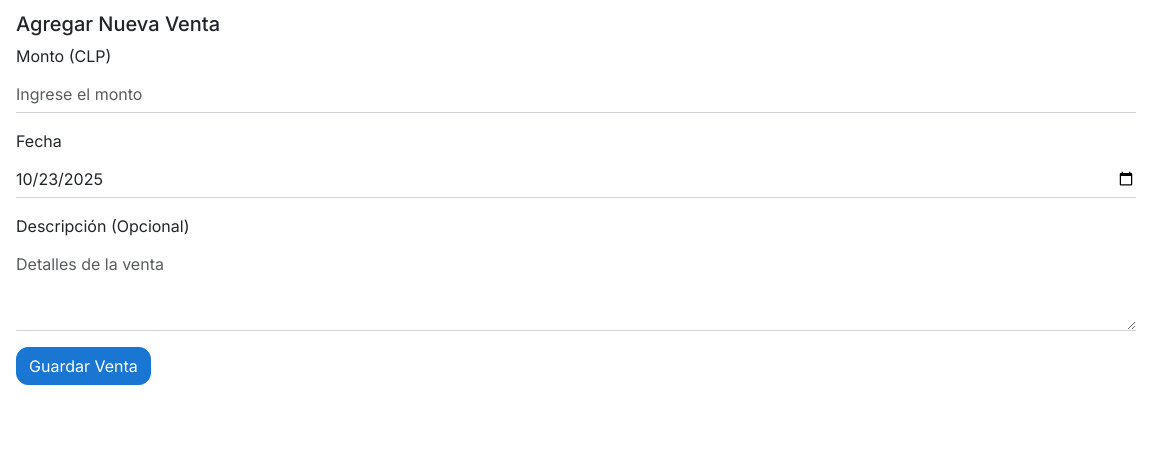
Test: AddSaleForm Component › should display an error message if the submission fails
Type "50000" into the number field labelled "Monto (CLP)" at coordinates (576, 94), box left=16, top=76, right=1136, bottom=113
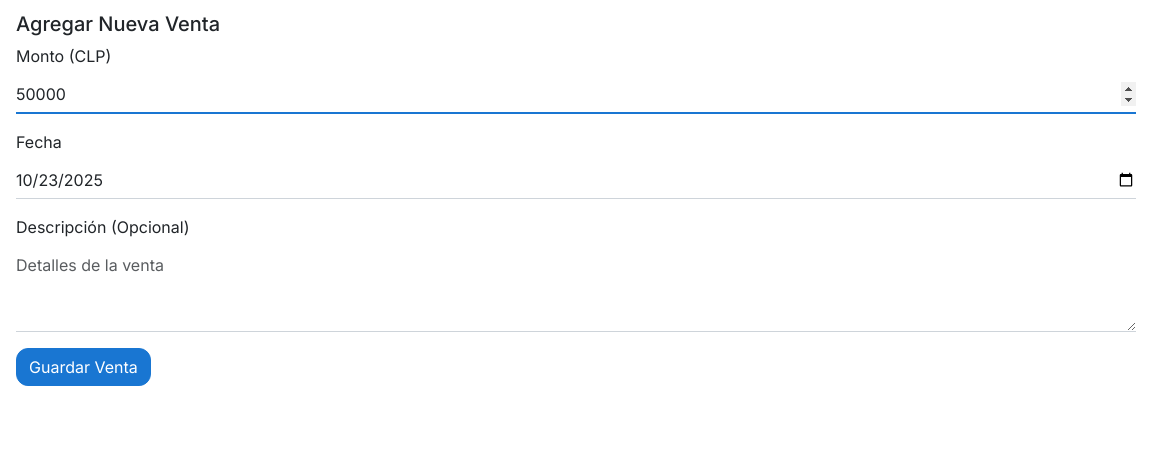
Click the button "Guardar Venta" at coordinates (83, 367), box left=16, top=348, right=151, bottom=386
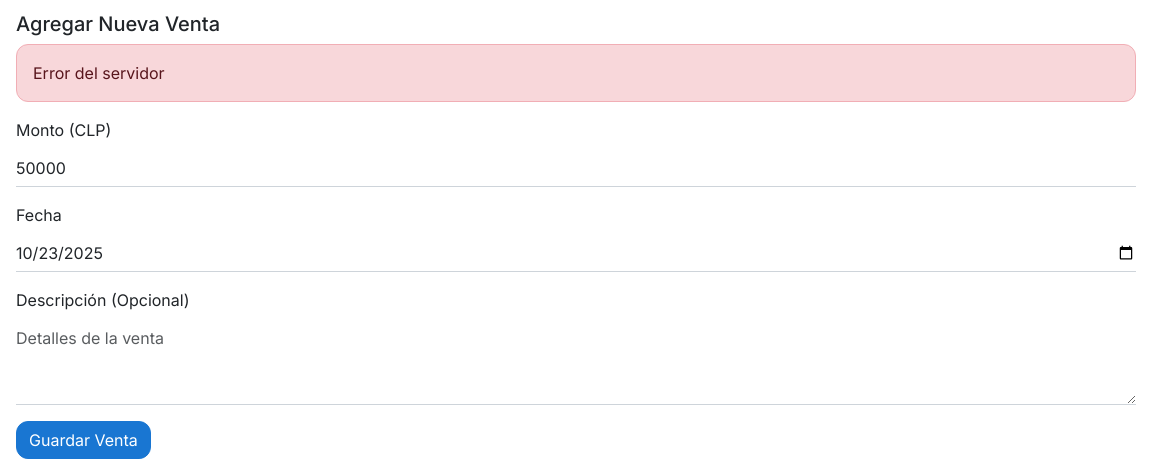
Now the message "Error del servidor" is shown, box left=16, top=44, right=1136, bottom=102
Now the message reads "Error del servidor", box left=33, top=63, right=165, bottom=83
